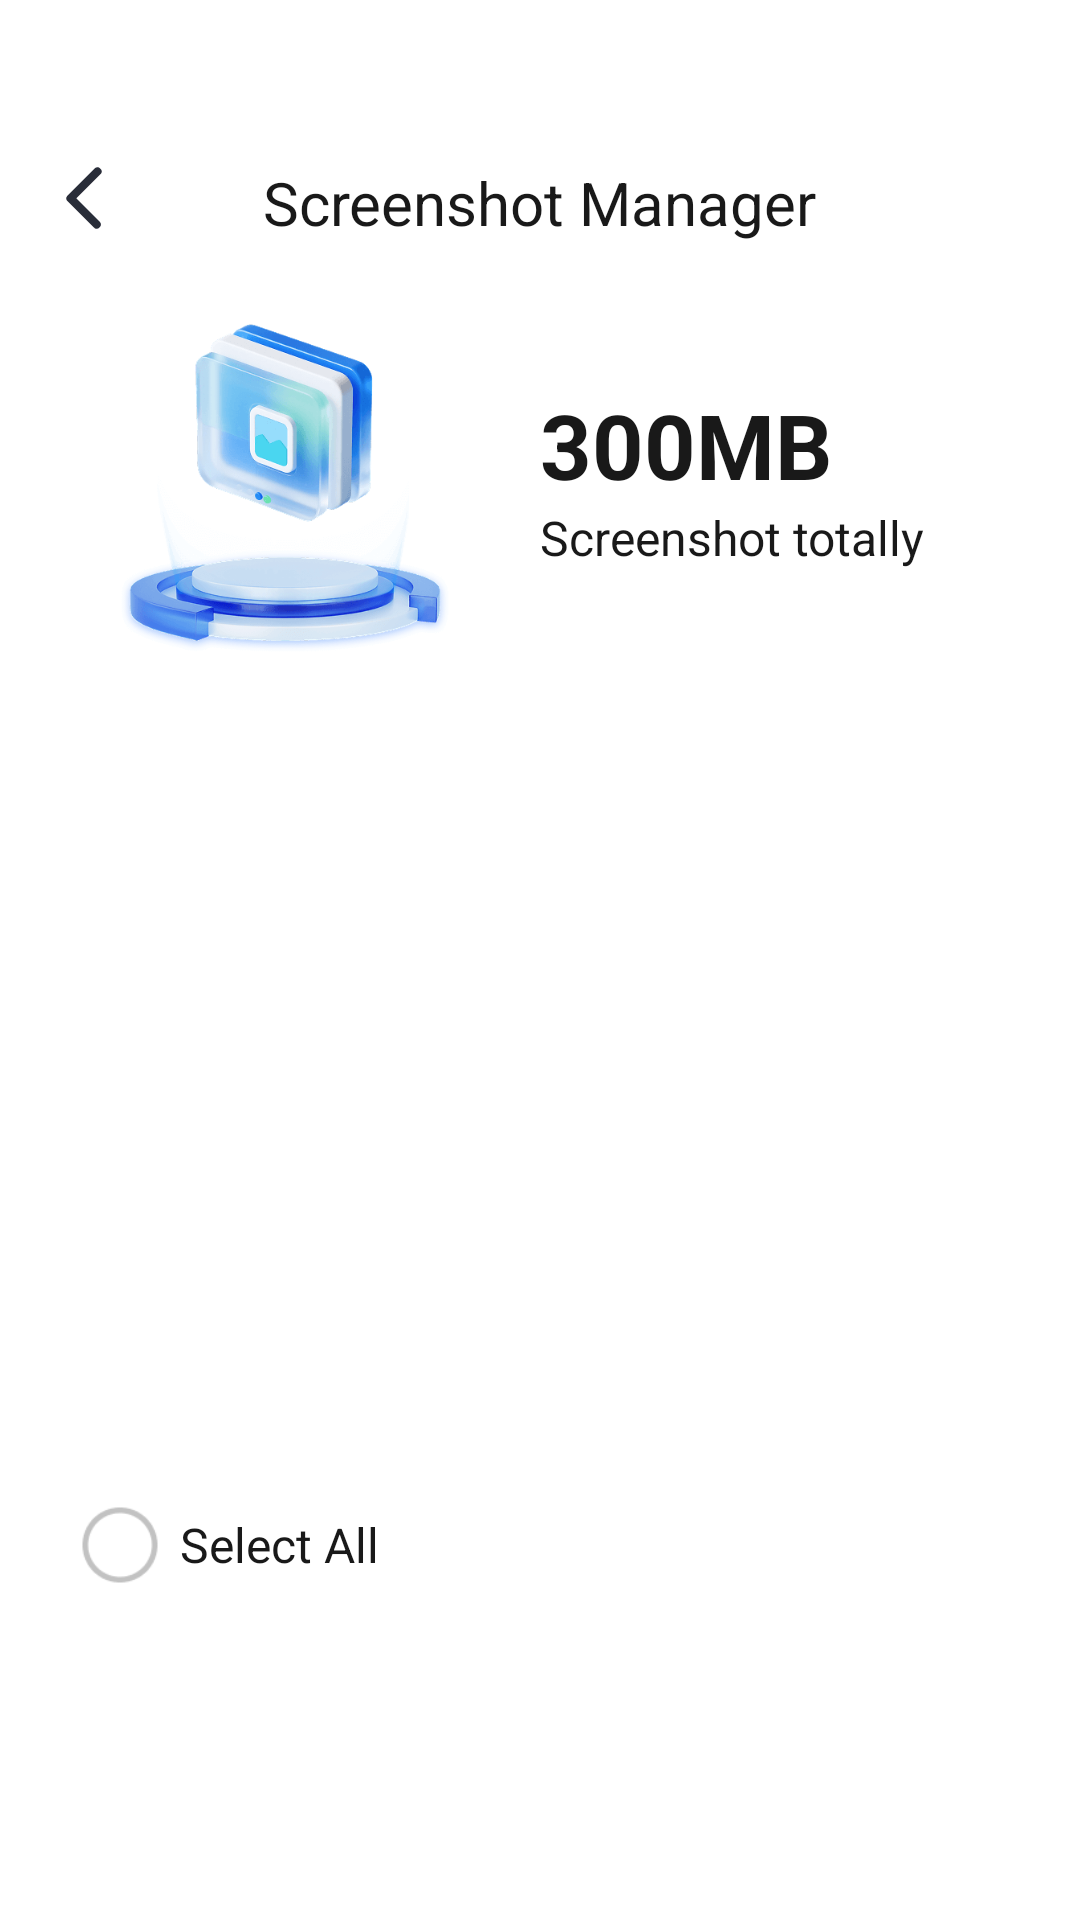

Icons on this 1080*1920 Android screen, each with the point to tap as (x,y):
back: (84,198)
check nor: (120,1545)
